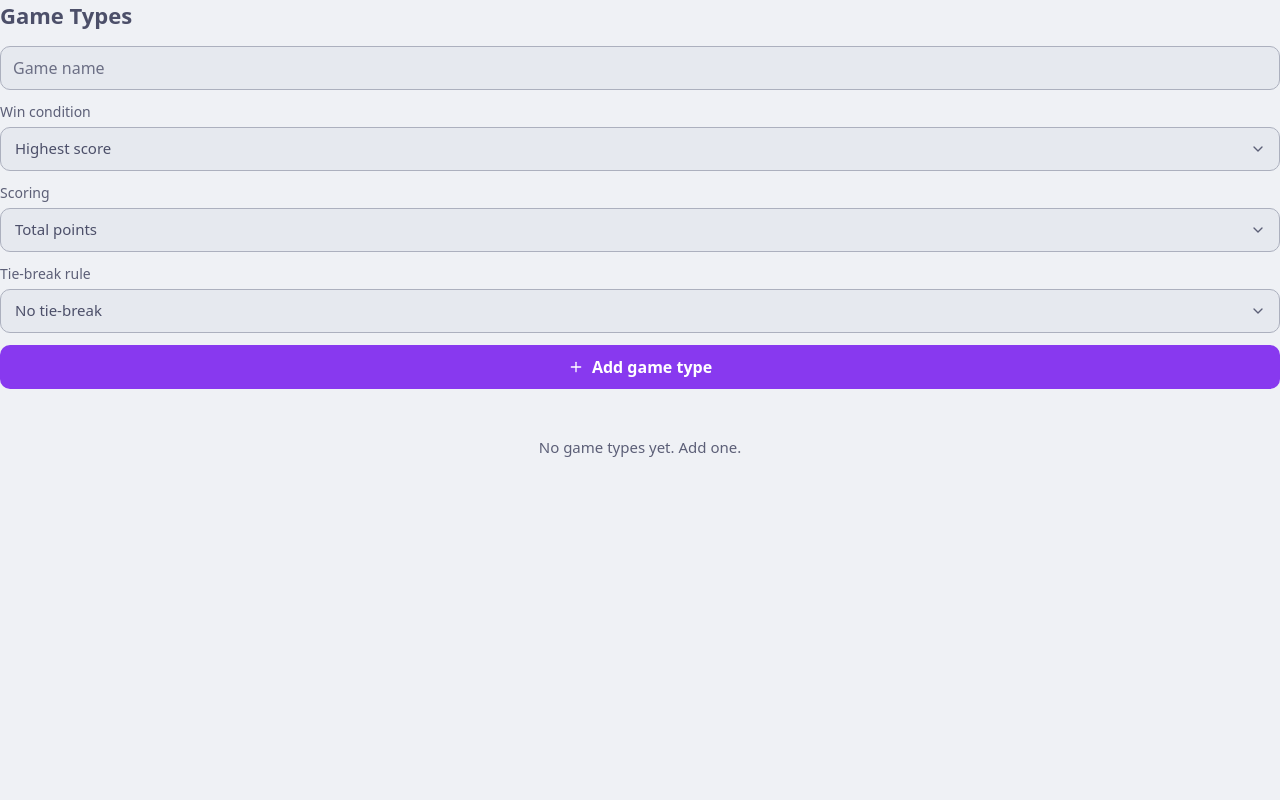
Test: GameTypeScreen › shows detail rows without trailing colons, including tie-break condition and question
This screenshot has width=1280, height=800.
Type "Tarot" into the field with placeholder "Game name".
click(640, 68); type("Tarot")  # box x1=0 y1=46 x2=1279 y2=90
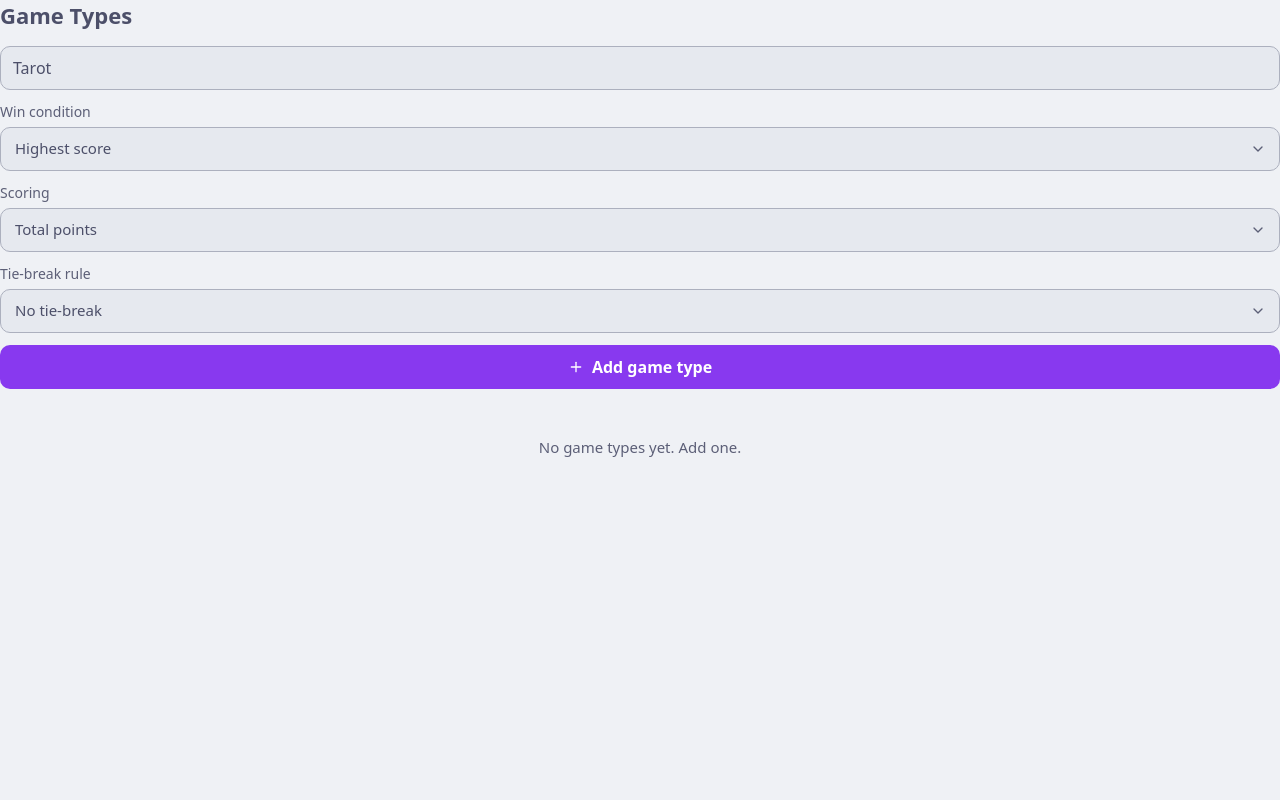
Select "Secondary score" in the dropdown showing "No tie-break" at x=640, y=311, box x1=0 y1=289 x2=1279 y2=333
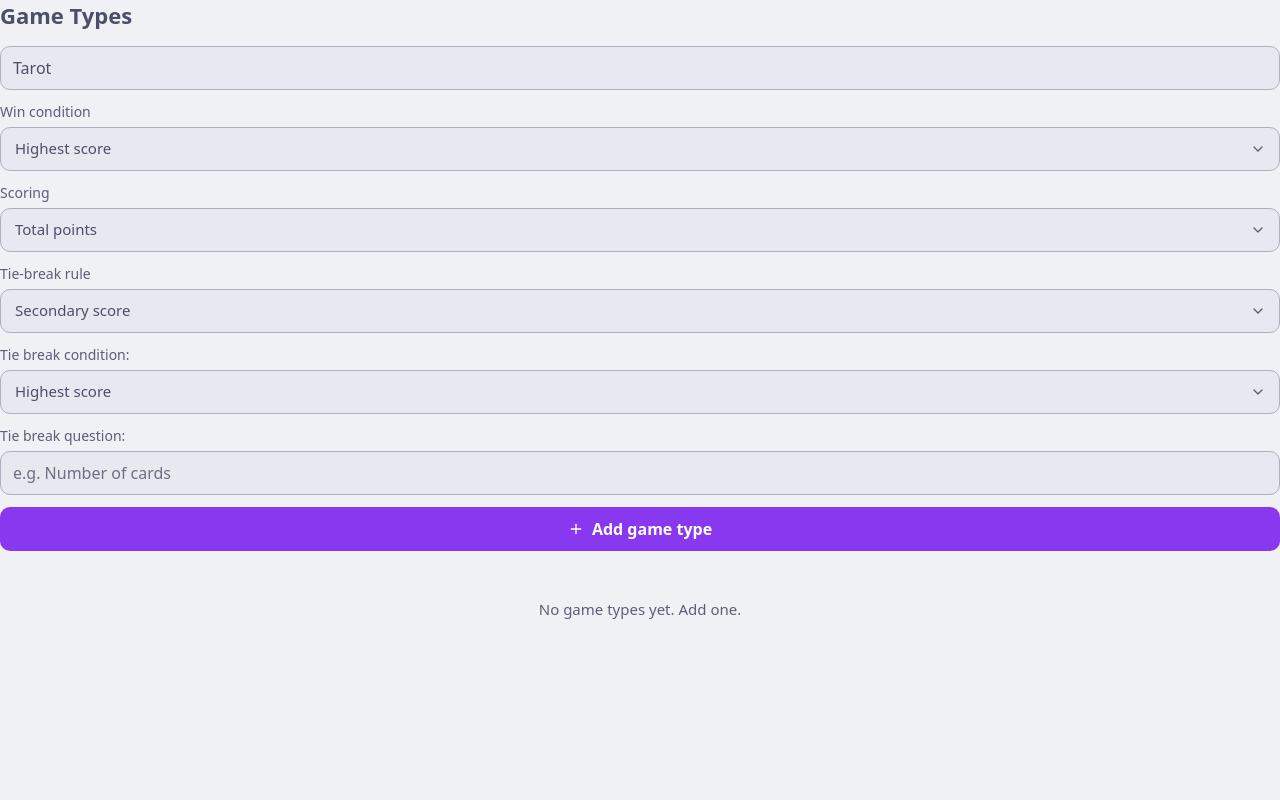
Type "Number of cards" into the field with placeholder "e.g. Number of cards".
click(640, 473); type("Number of cards")  # box x1=0 y1=451 x2=1279 y2=495
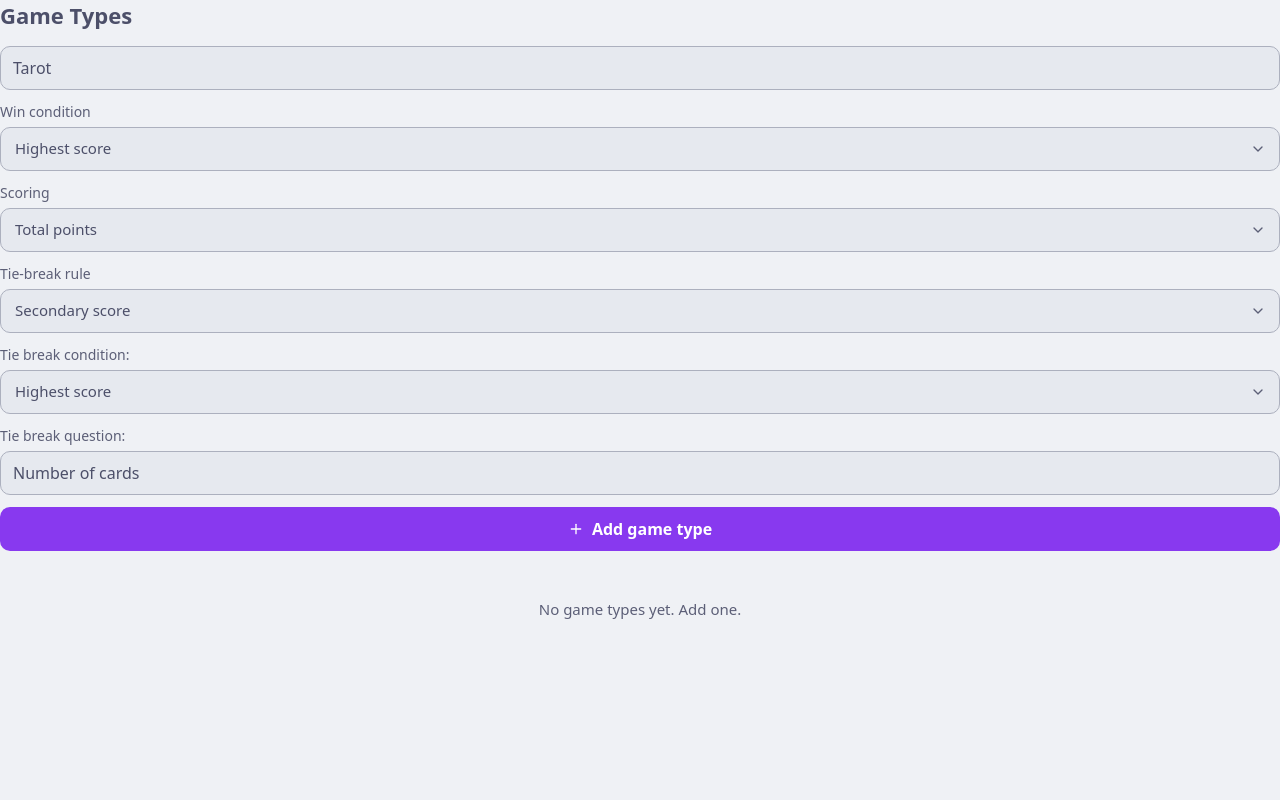
Click the button "Add game type".
click(640, 529)  # box x1=0 y1=507 x2=1279 y2=551
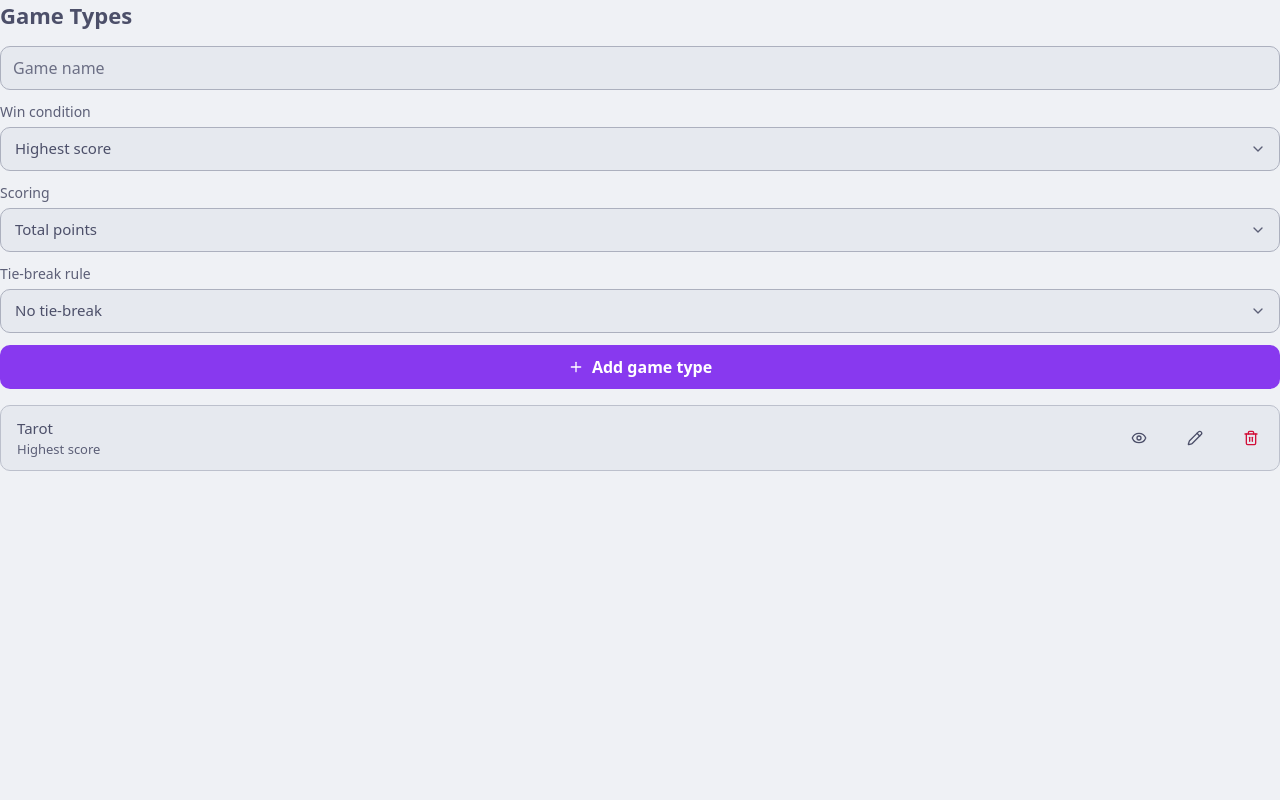
Click the button named "View details".
click(1139, 438)  # box x1=1111 y1=406 x2=1167 y2=470
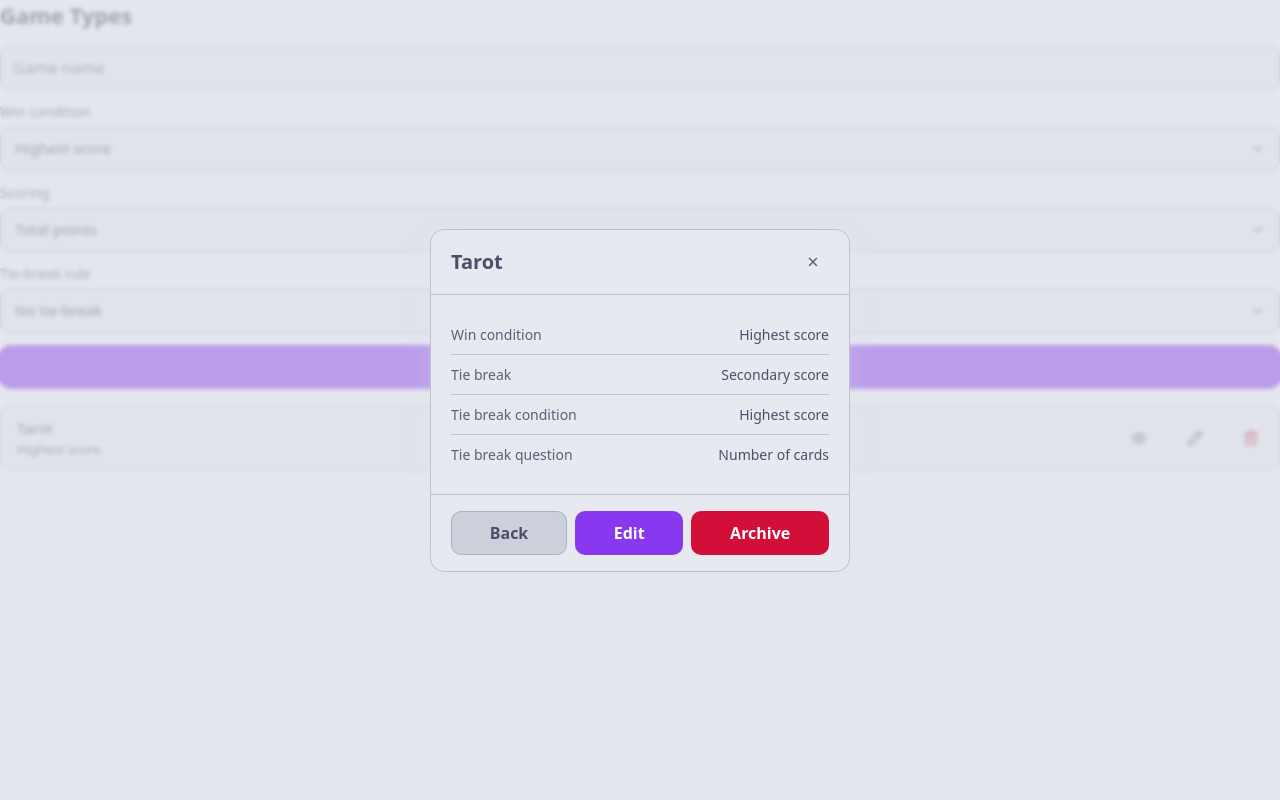
Now the text "Win condition" is shown, box x1=451 y1=324 x2=542 y2=344
Now the text "Tie break" is shown, box x1=451 y1=364 x2=511 y2=384
Now the text "Tie break condition" is shown, box x1=451 y1=404 x2=577 y2=424
